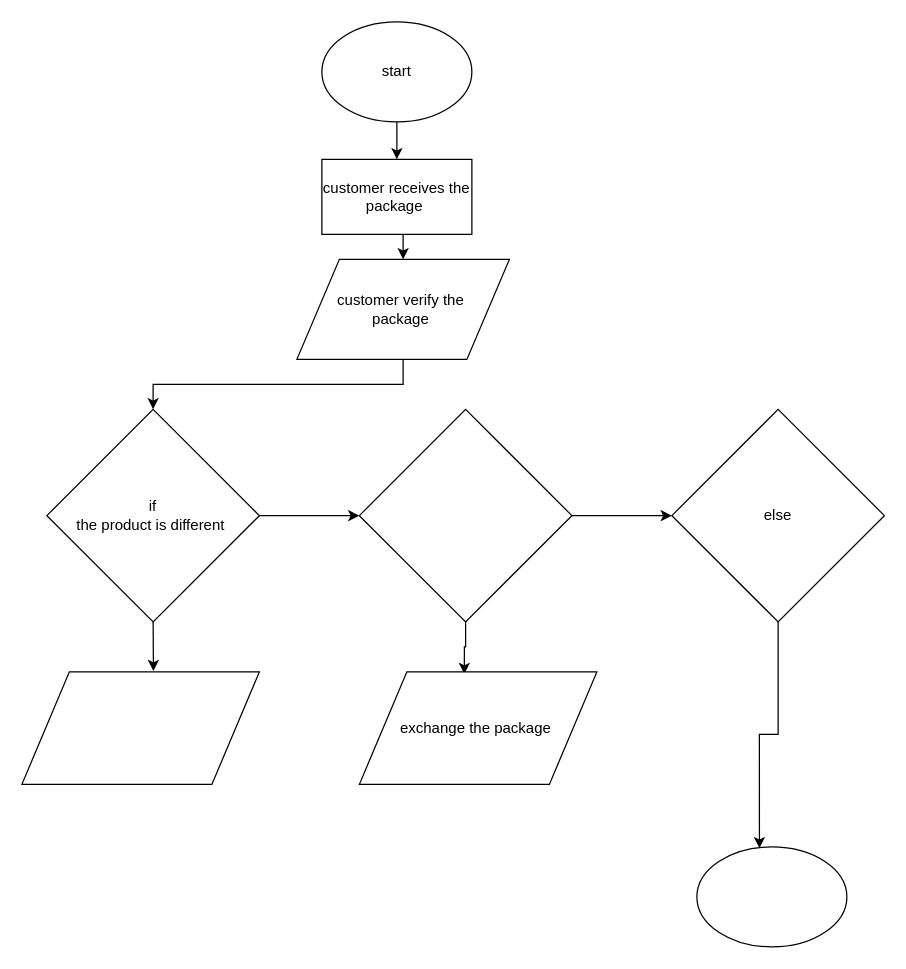
Some shapes in this 906 by 969 pixel diagram are drawn without their labels. The shapes that lost their labels are listed below. From the top down, each one's box as (x1, y1, x2, y2) in pixels, then its label:
(358, 408, 572, 622): else if the product of different size or colour
(21, 671, 259, 784): return the package
(696, 846, 847, 947): stop
